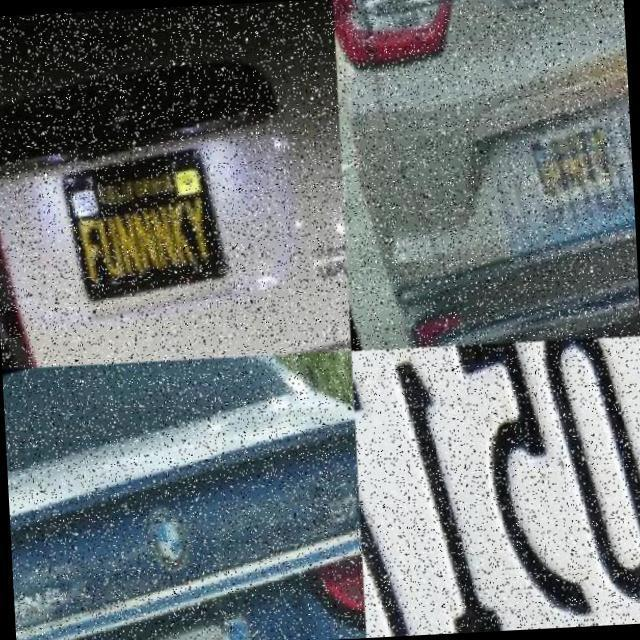License Plate: (350, 334, 640, 638), (50, 136, 228, 314), (520, 120, 616, 220), (114, 596, 286, 640)
